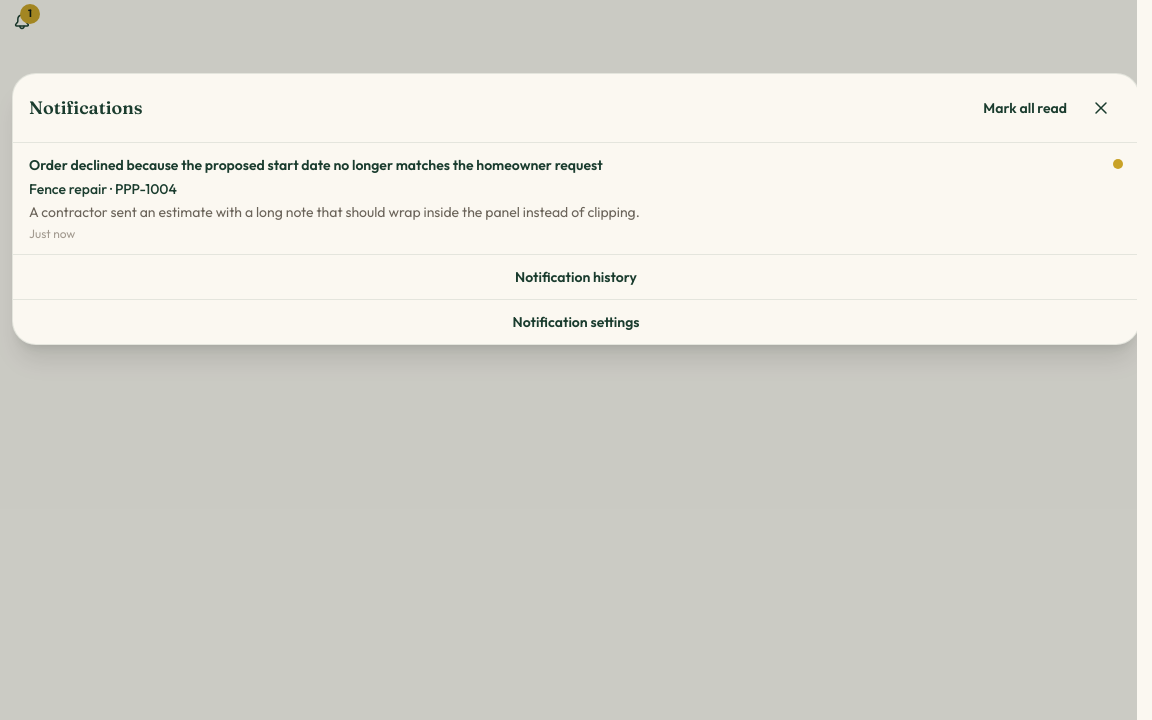
Test: notification bell › opens a fixed sheet on a narrow screen with a backdrop, close button, and scroll lock
expect the heading "Notifications" is shown: met, box [29,94,142,122]
expect the button "Mark all read" is shown: met, box [975,98,1075,118]
Click the button named "Dismiss notifications".
click(576, 360)  # box [0,0,1151,719]
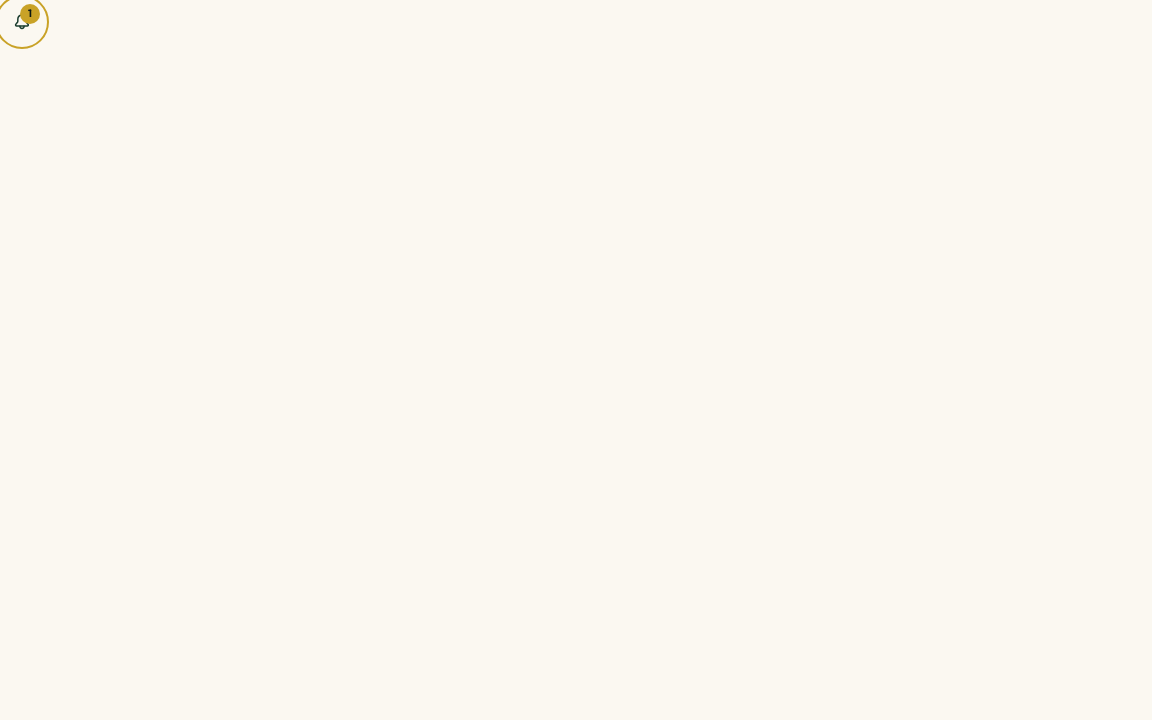
expect the dialog is gone: met
